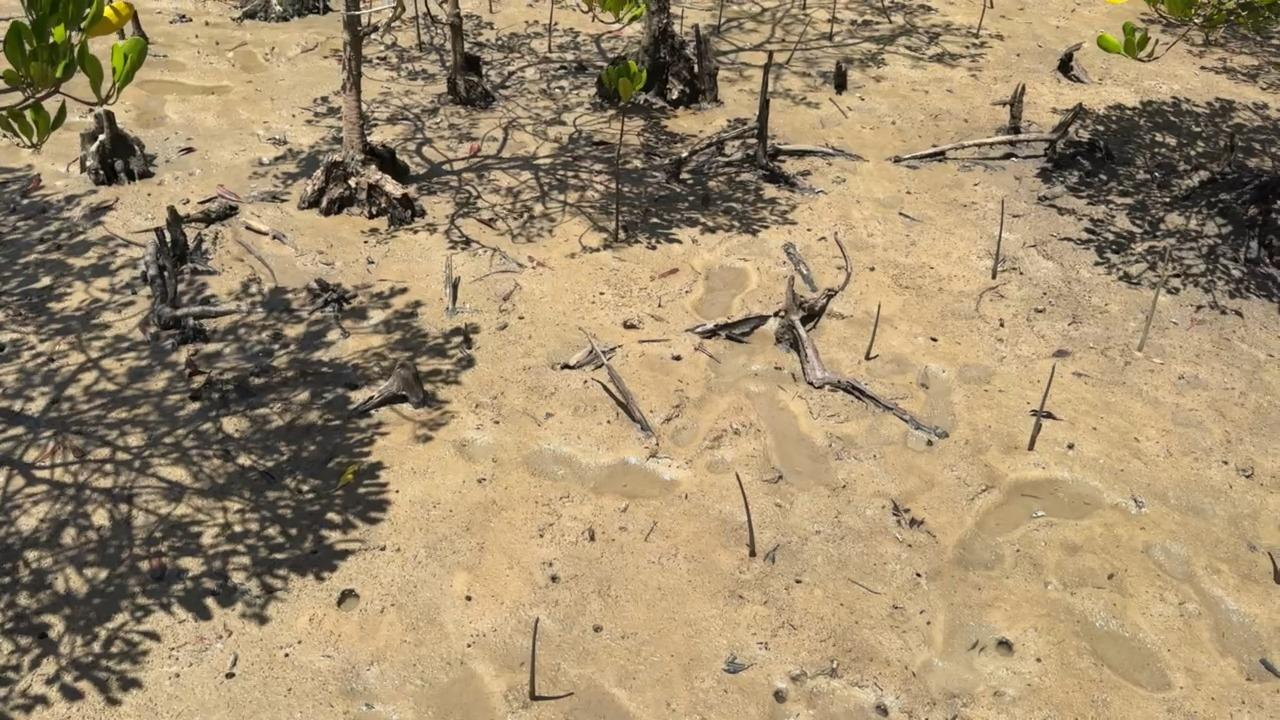Tree: (600, 60, 648, 241), (1139, 245, 1171, 351), (1029, 363, 1056, 451), (736, 472, 757, 557), (786, 17, 813, 66), (991, 198, 1005, 280), (864, 301, 882, 359), (529, 616, 540, 701), (975, 0, 986, 38), (828, 0, 836, 40), (548, 0, 554, 53), (880, 0, 893, 23), (716, 0, 724, 34), (680, 9, 684, 35)
